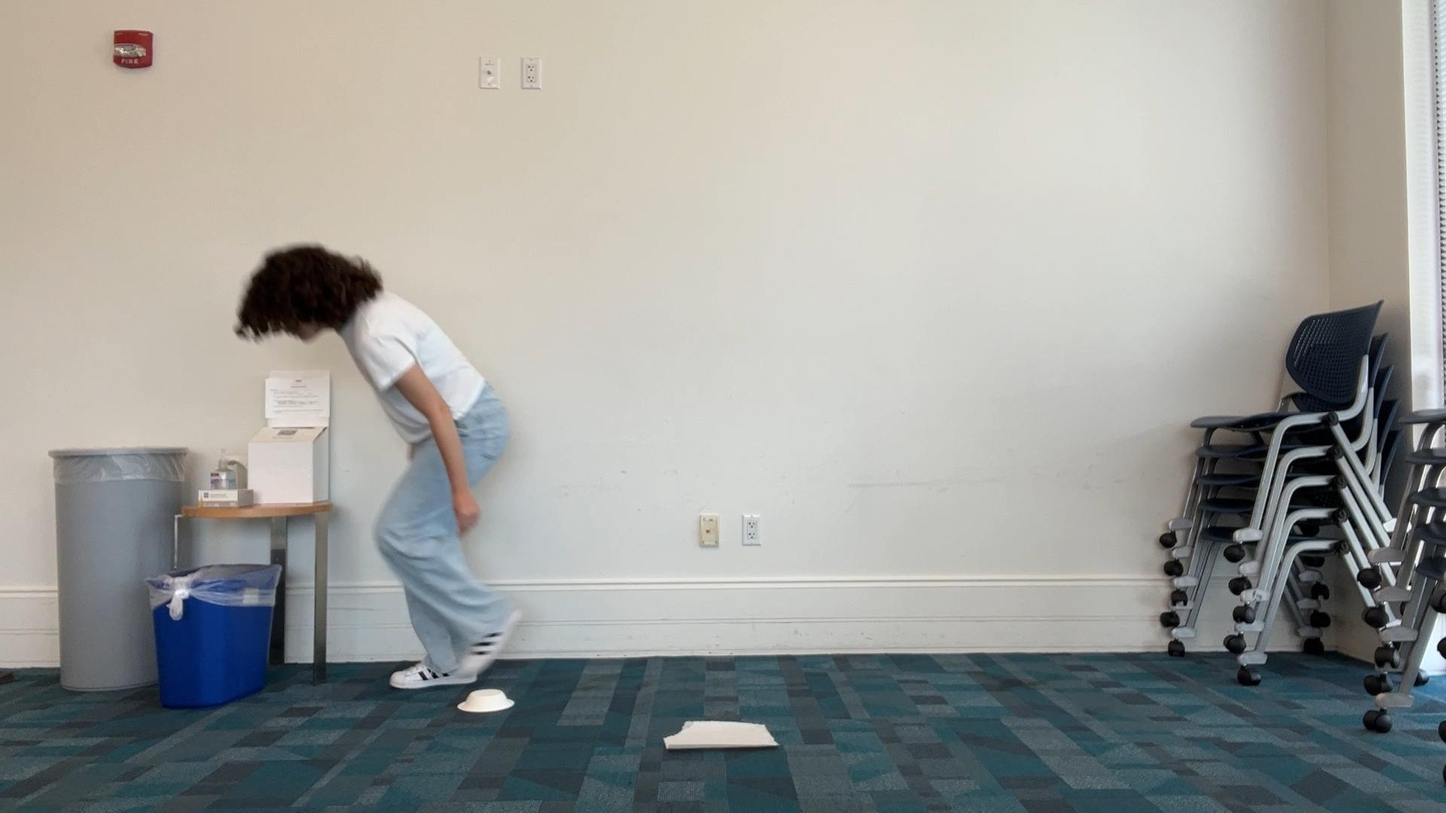Trash: (650, 712, 788, 760), (456, 678, 528, 726)
